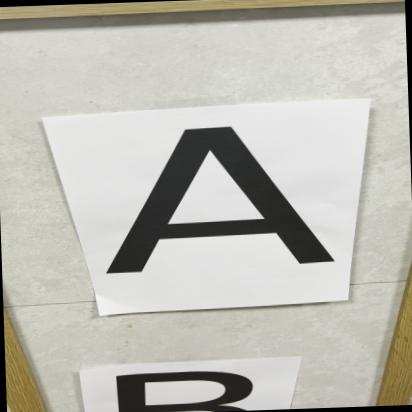seat: (85, 118, 337, 293)
